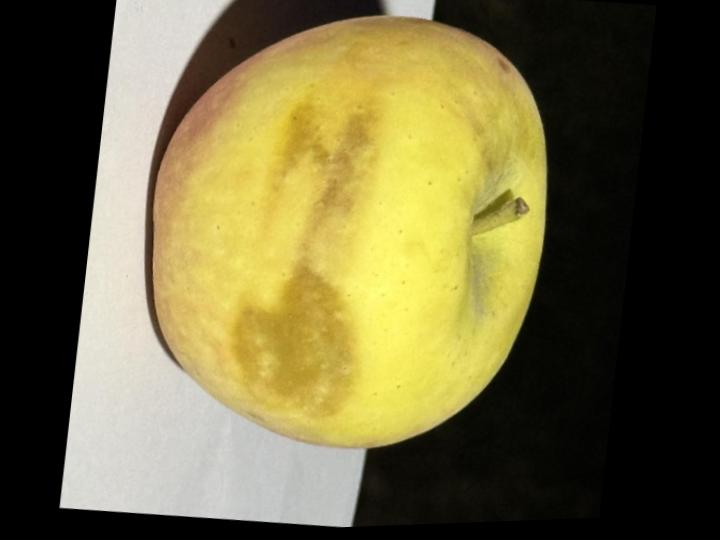apple: (153, 15, 546, 447)
bruise_discoloration: (262, 102, 378, 259), (235, 264, 353, 416)
